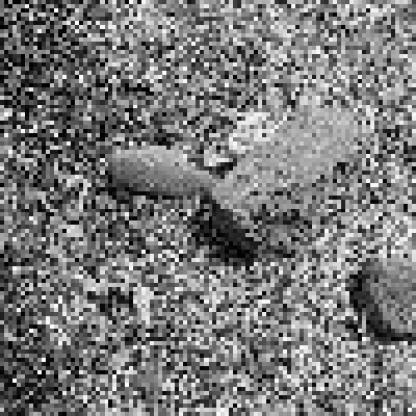brick: (115, 78, 377, 263), (348, 257, 412, 337)
